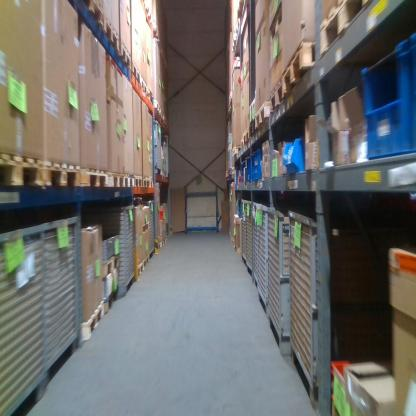pallet: (319, 1, 375, 57), (281, 38, 318, 101), (1, 155, 44, 189), (42, 161, 80, 197), (81, 298, 103, 345), (80, 1, 105, 36), (80, 165, 106, 196), (101, 20, 120, 58), (100, 252, 120, 281), (255, 100, 271, 132), (117, 43, 132, 76), (270, 80, 283, 117), (105, 170, 124, 193), (131, 59, 142, 89), (124, 174, 134, 191), (242, 127, 250, 147), (141, 77, 148, 98), (153, 99, 161, 115), (134, 176, 143, 190), (137, 261, 144, 279), (142, 221, 150, 235), (232, 145, 241, 157), (159, 237, 170, 246), (143, 255, 149, 269), (144, 178, 151, 187)
small_load_carrier: (358, 33, 414, 163), (251, 148, 264, 183), (246, 155, 252, 185), (239, 160, 245, 183), (238, 197, 242, 218)
stillage: (285, 203, 346, 409), (1, 221, 44, 413), (43, 209, 82, 390), (86, 201, 135, 305), (266, 206, 296, 360), (256, 202, 270, 315), (251, 200, 260, 293), (144, 198, 155, 265), (245, 198, 254, 278), (153, 119, 163, 176), (241, 198, 247, 264), (162, 132, 170, 177)
